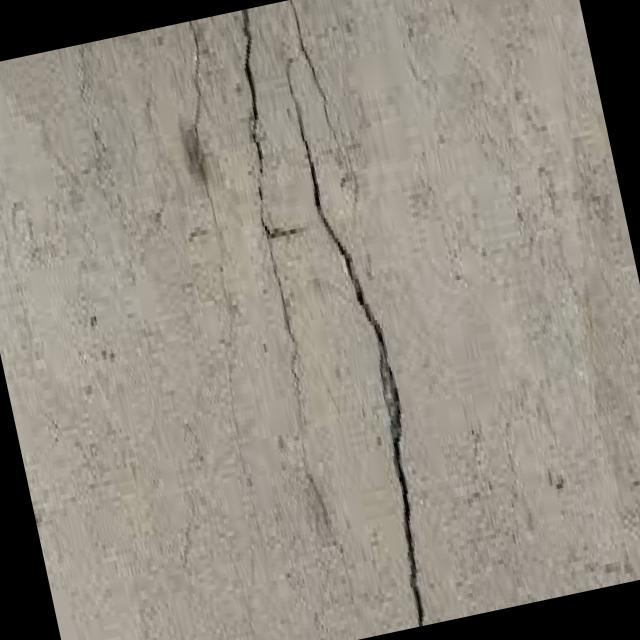crack: (212, 0, 441, 637), (124, 20, 316, 618)
